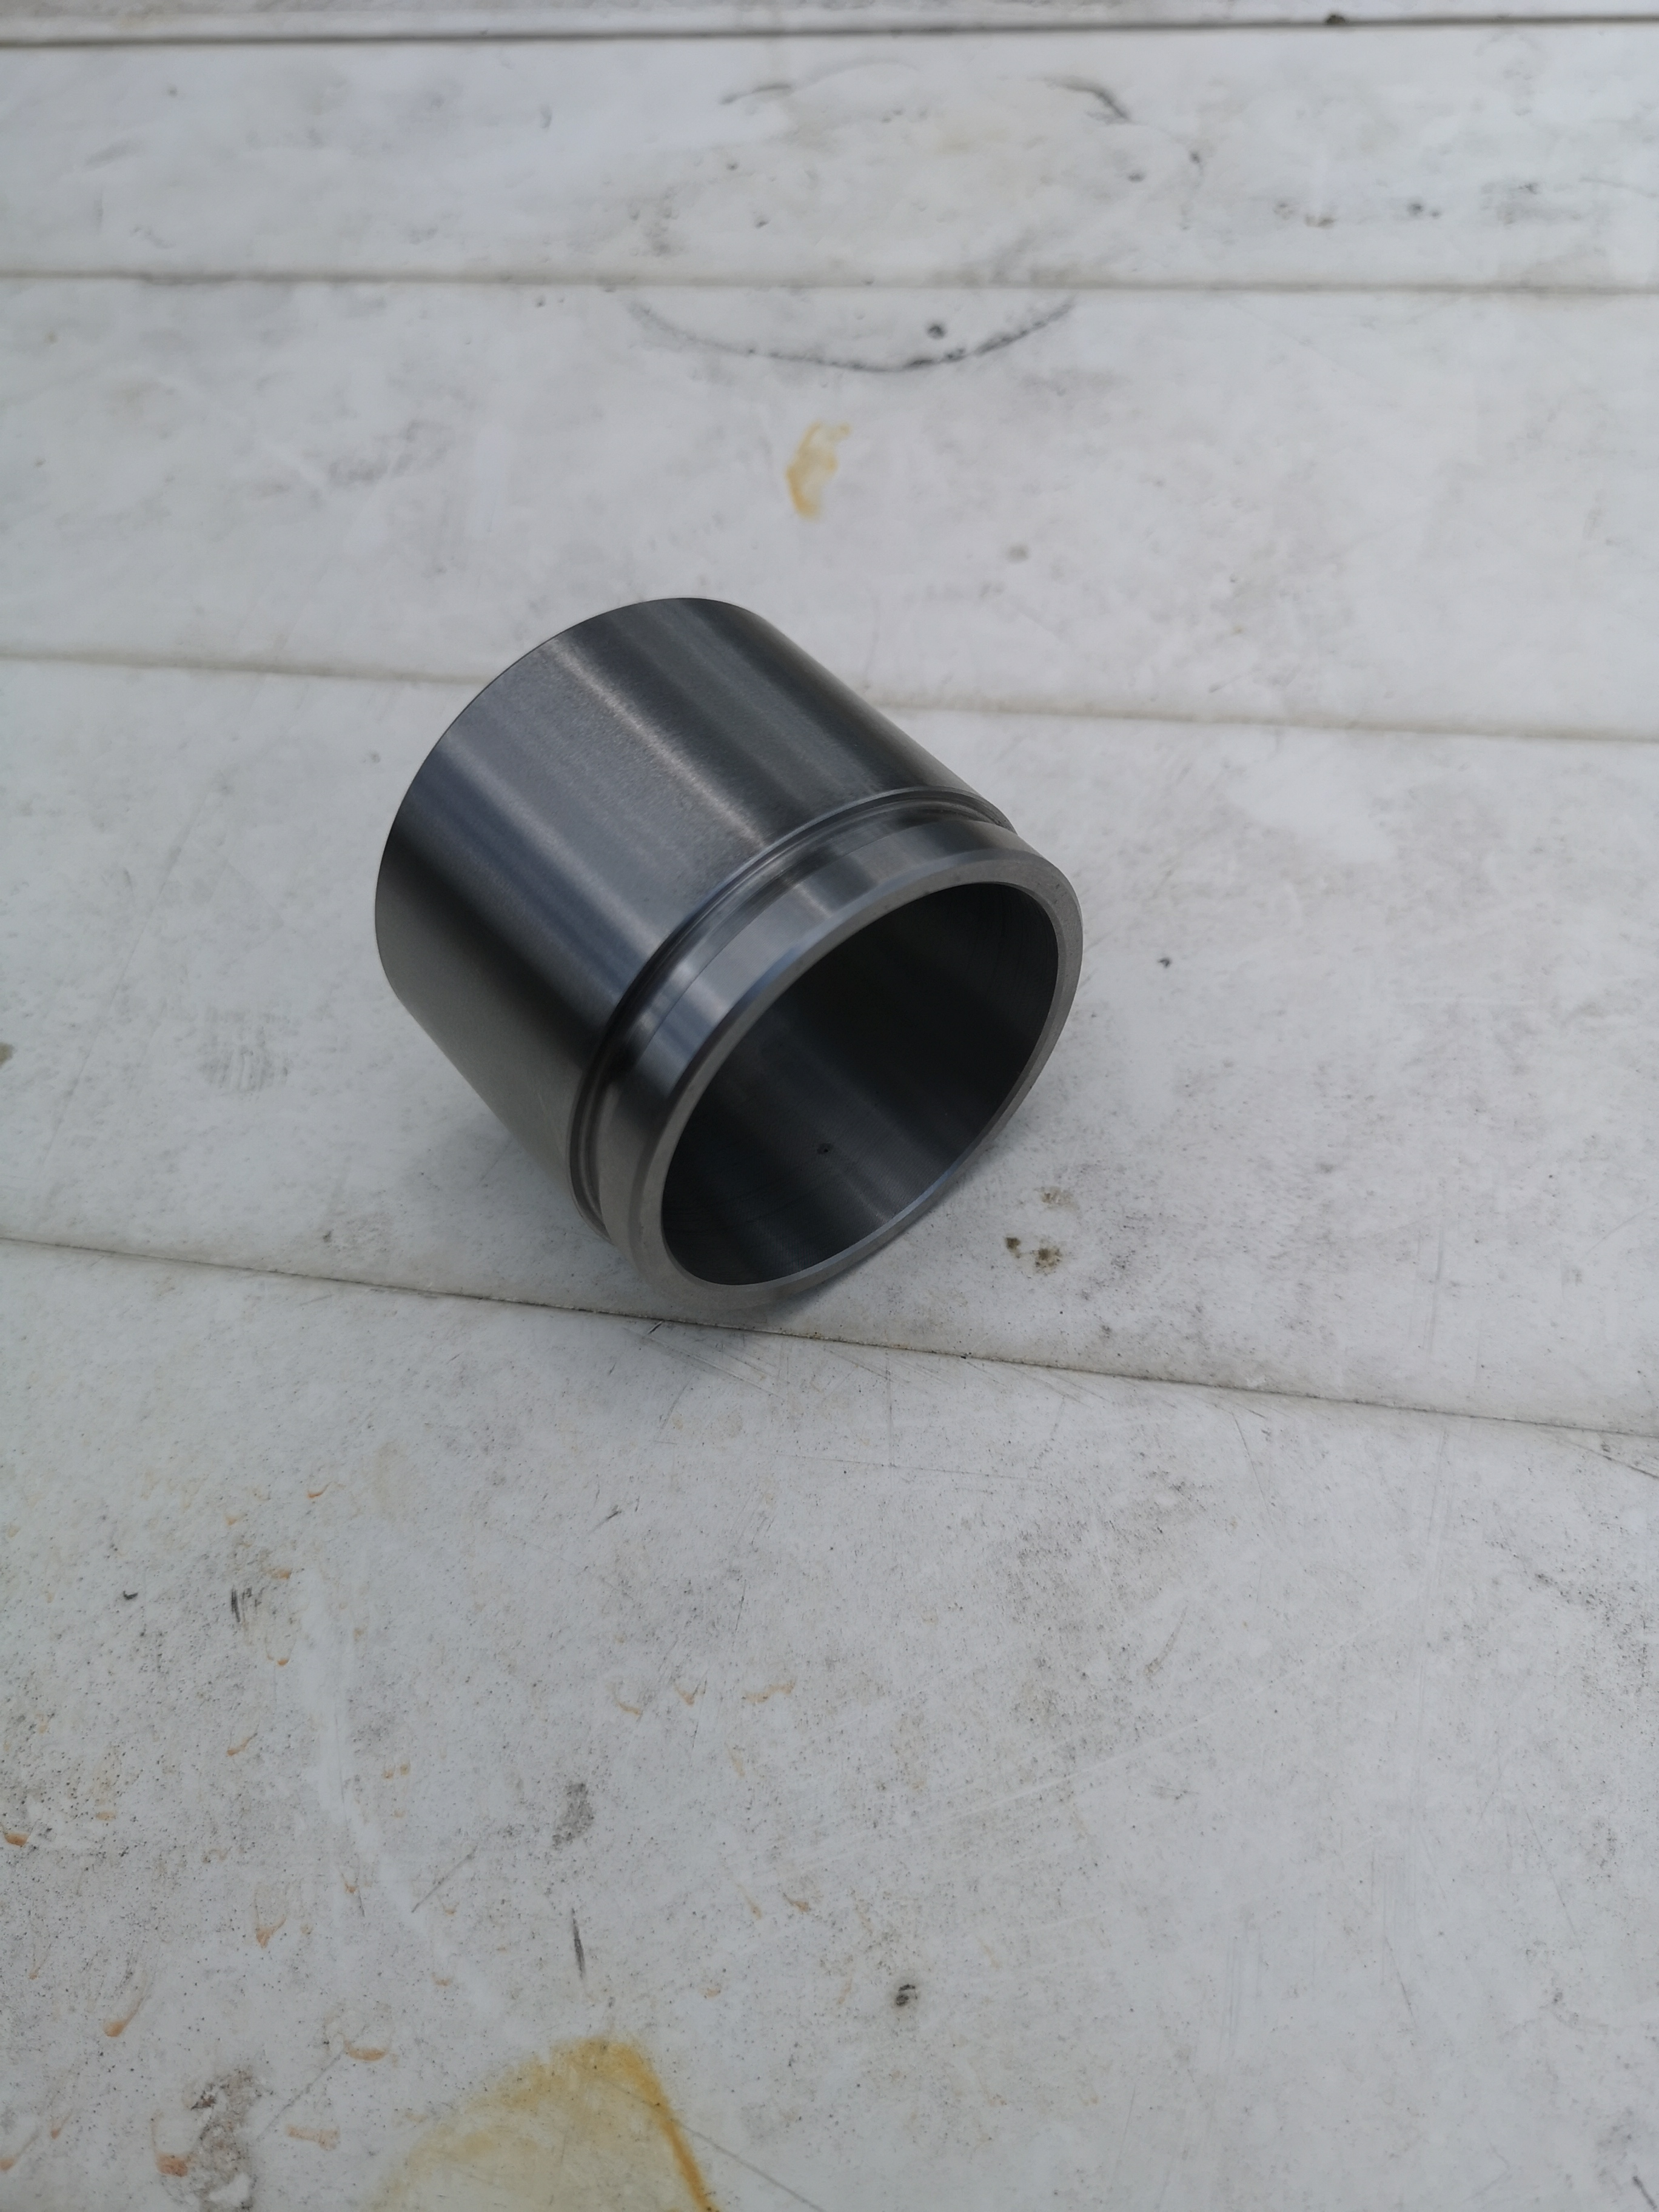ลูกสูบดิสเบรค: (307, 536, 1063, 1292)
